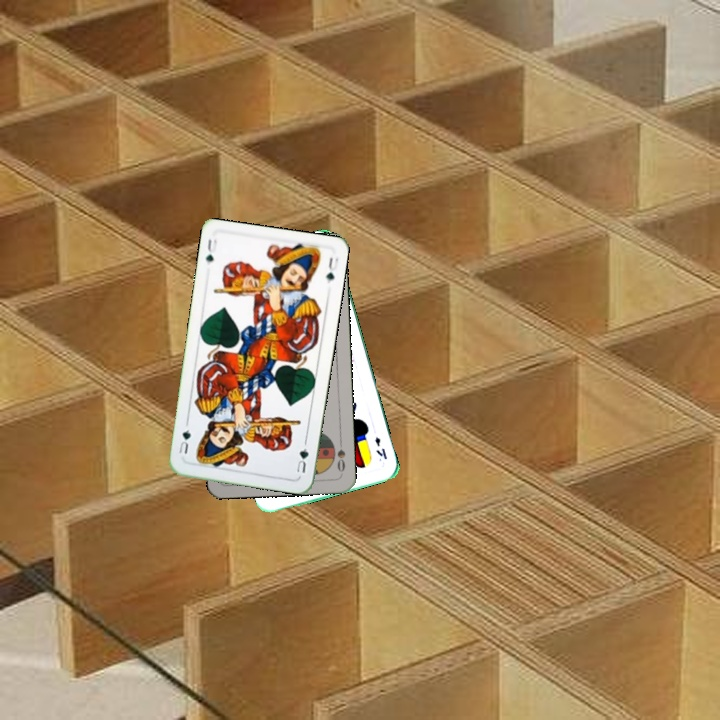EK: (371, 433, 390, 462)
GU: (292, 444, 311, 475), (202, 235, 220, 265)
SO: (333, 436, 347, 477)
